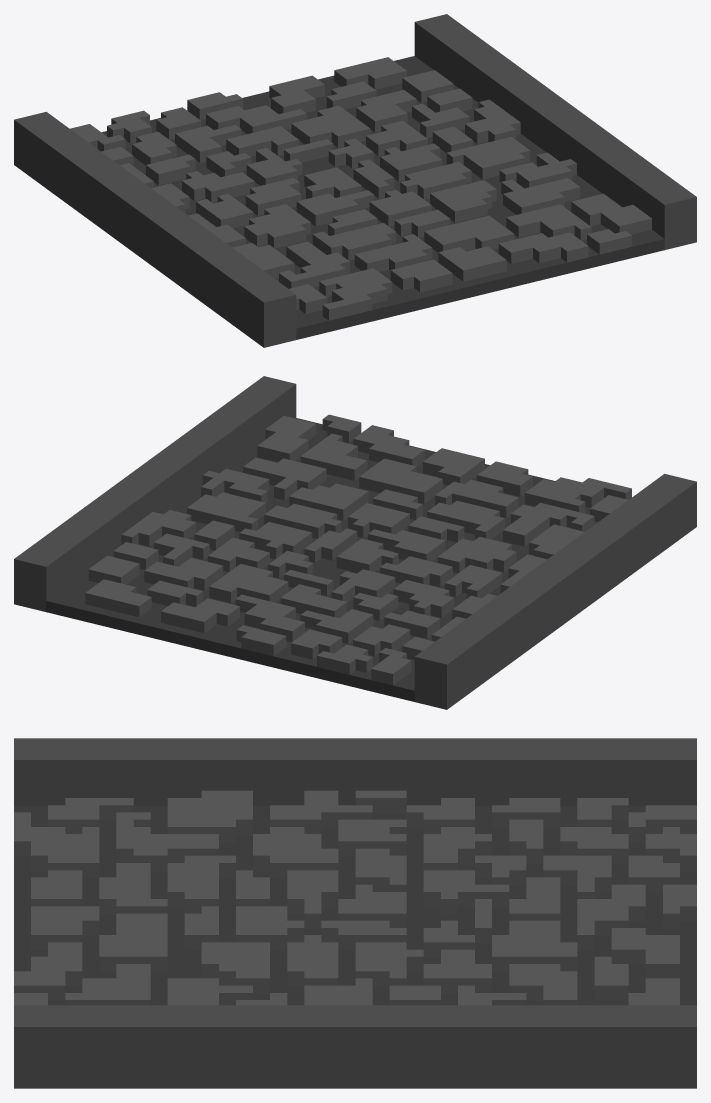
File: Rock Path Line.obj
3 views of the same model, one above another, from view 1: azimuth 30°, elevation 25°; view 2: azimuth 150°, elevation 25°; view 3: azimuth 270°, elevation 25° (orthographic). The views are drawn at different scales.
Size of the model in its own units: 4 by 0.4 by 4.
1 material, 1 textured.
